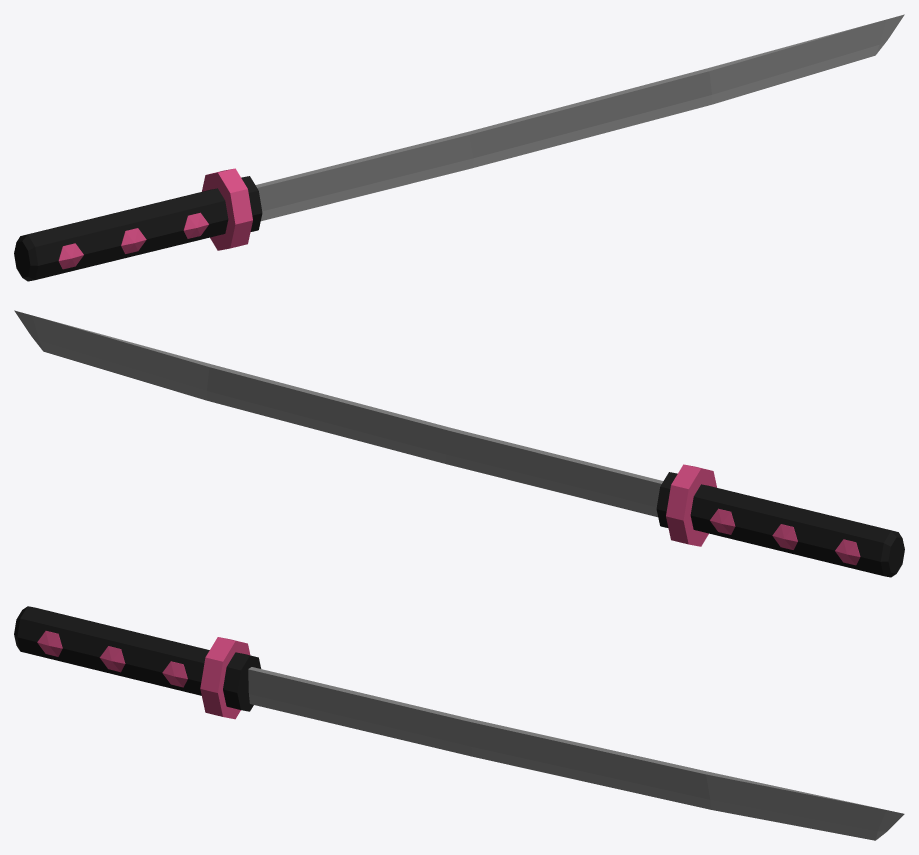
Rendered from Katana.fbx.
3 renders of one model, top to bottom at view 1: azimuth 30°, elevation 25°; view 2: azimuth 150°, elevation 25°; view 3: azimuth 330°, elevation 25°, orthographic.
Parts seen in each view (by area): view 1: Katana; view 2: Katana; view 3: Katana.
Boxes of the visible parts, x1,y1,x2,y2 form: Katana: [14, 14, 904, 281]; Katana: [14, 310, 904, 577]; Katana: [14, 606, 904, 840].
Bounding box in the file's own units: 304 × 25.7 × 20.96.
